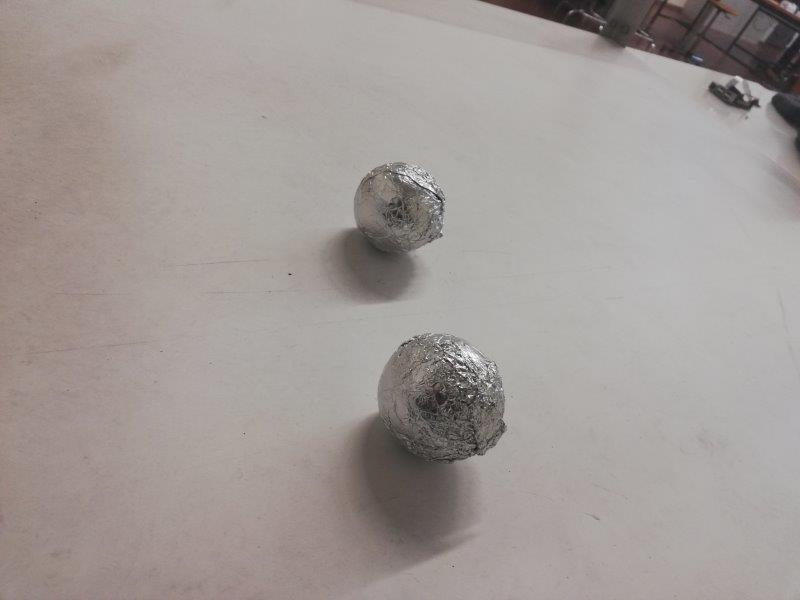bianca: (377, 329, 511, 461), (348, 159, 447, 251)
